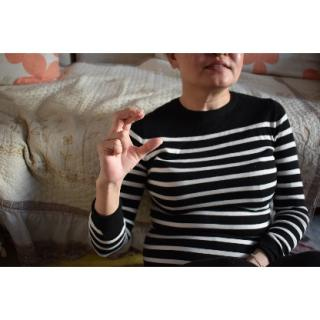DHELL: (95, 104, 169, 192)
